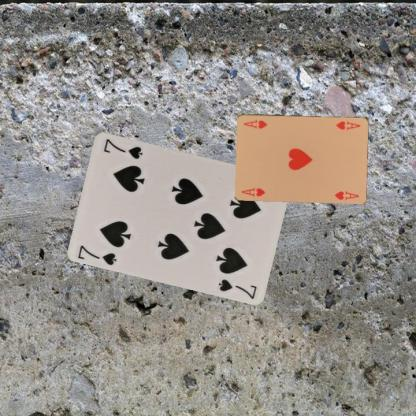7s: (75, 242, 119, 266)
Ah: (333, 118, 361, 132), (239, 185, 266, 198)
